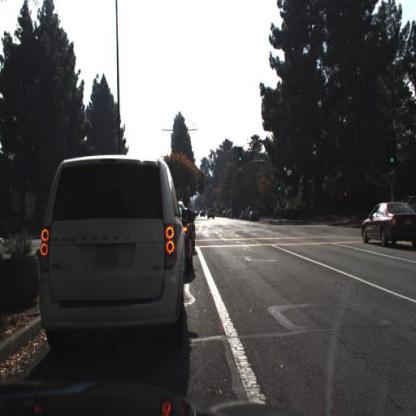car: (37, 150, 183, 359), (362, 202, 415, 249), (181, 201, 198, 269), (206, 201, 220, 222), (248, 206, 258, 221)
trafficLight-Green: (235, 146, 244, 166), (389, 142, 395, 162), (237, 144, 242, 166), (389, 146, 394, 168), (276, 180, 282, 196), (178, 186, 184, 200), (277, 175, 282, 191)
